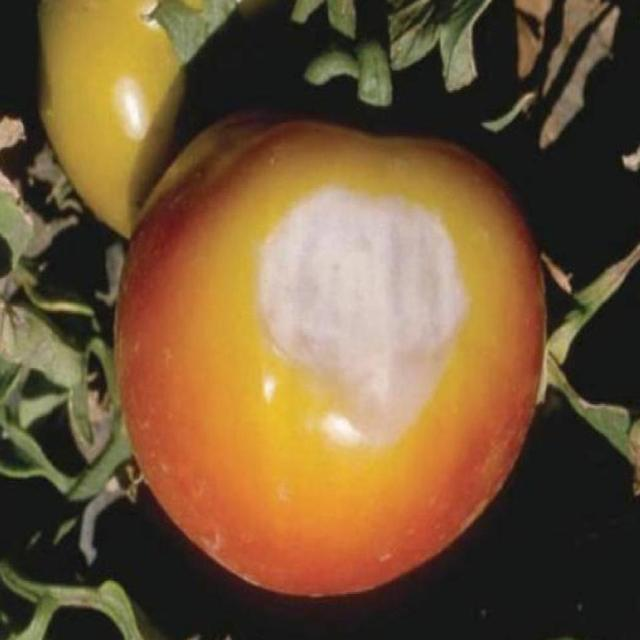Sunscald Fruit: (162, 127, 321, 325)
